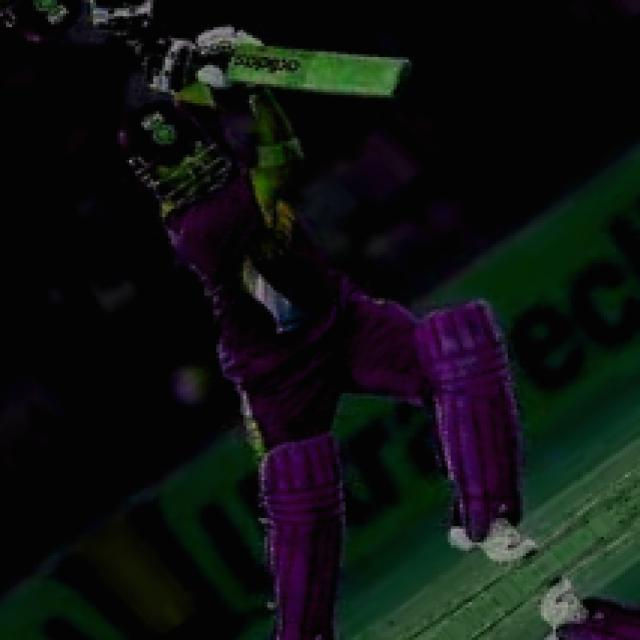bat: (219, 46, 423, 97)
toe: (391, 71, 414, 90)
